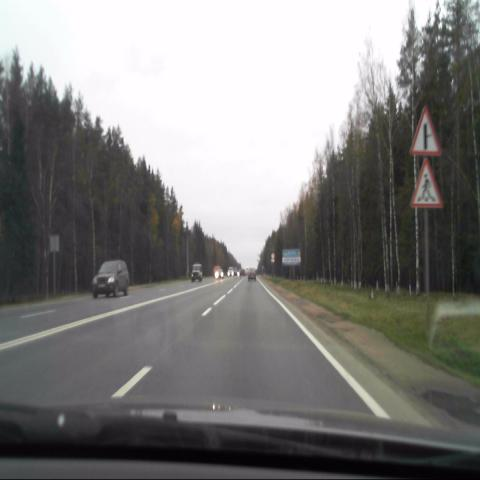1_22: (412, 158, 442, 207)
2_3_2: (410, 105, 440, 156)
